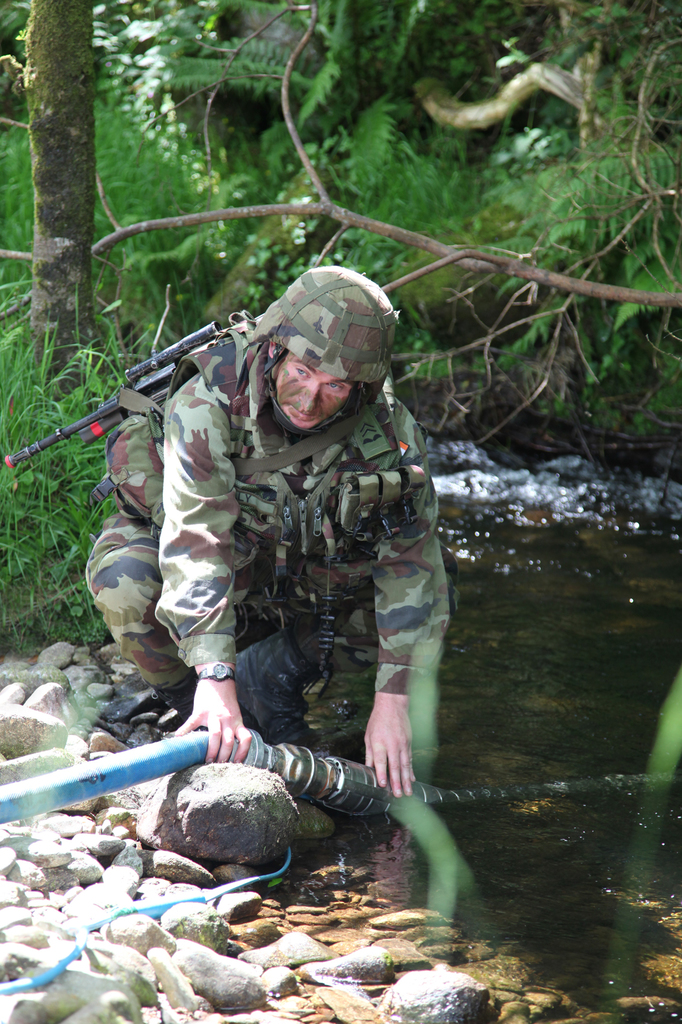Tree: (0, 0, 682, 550)
